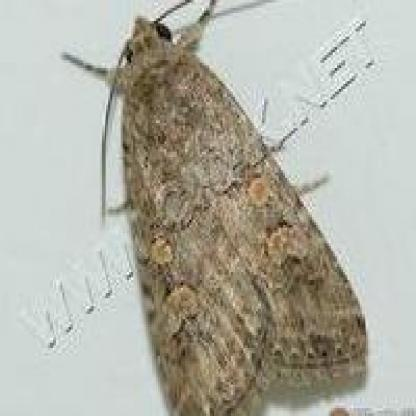armyworm: (50, 0, 374, 416)
